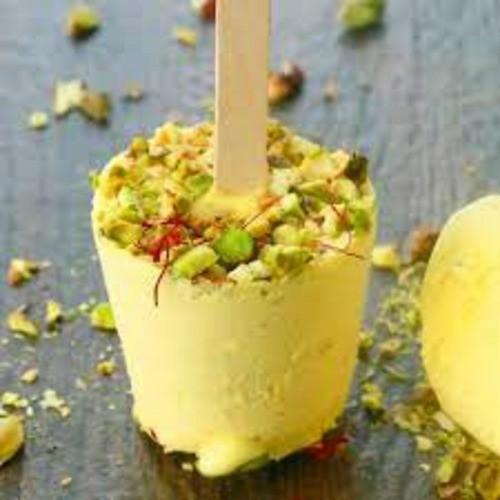Kulfi: (88, 113, 380, 466), (419, 196, 500, 455)
